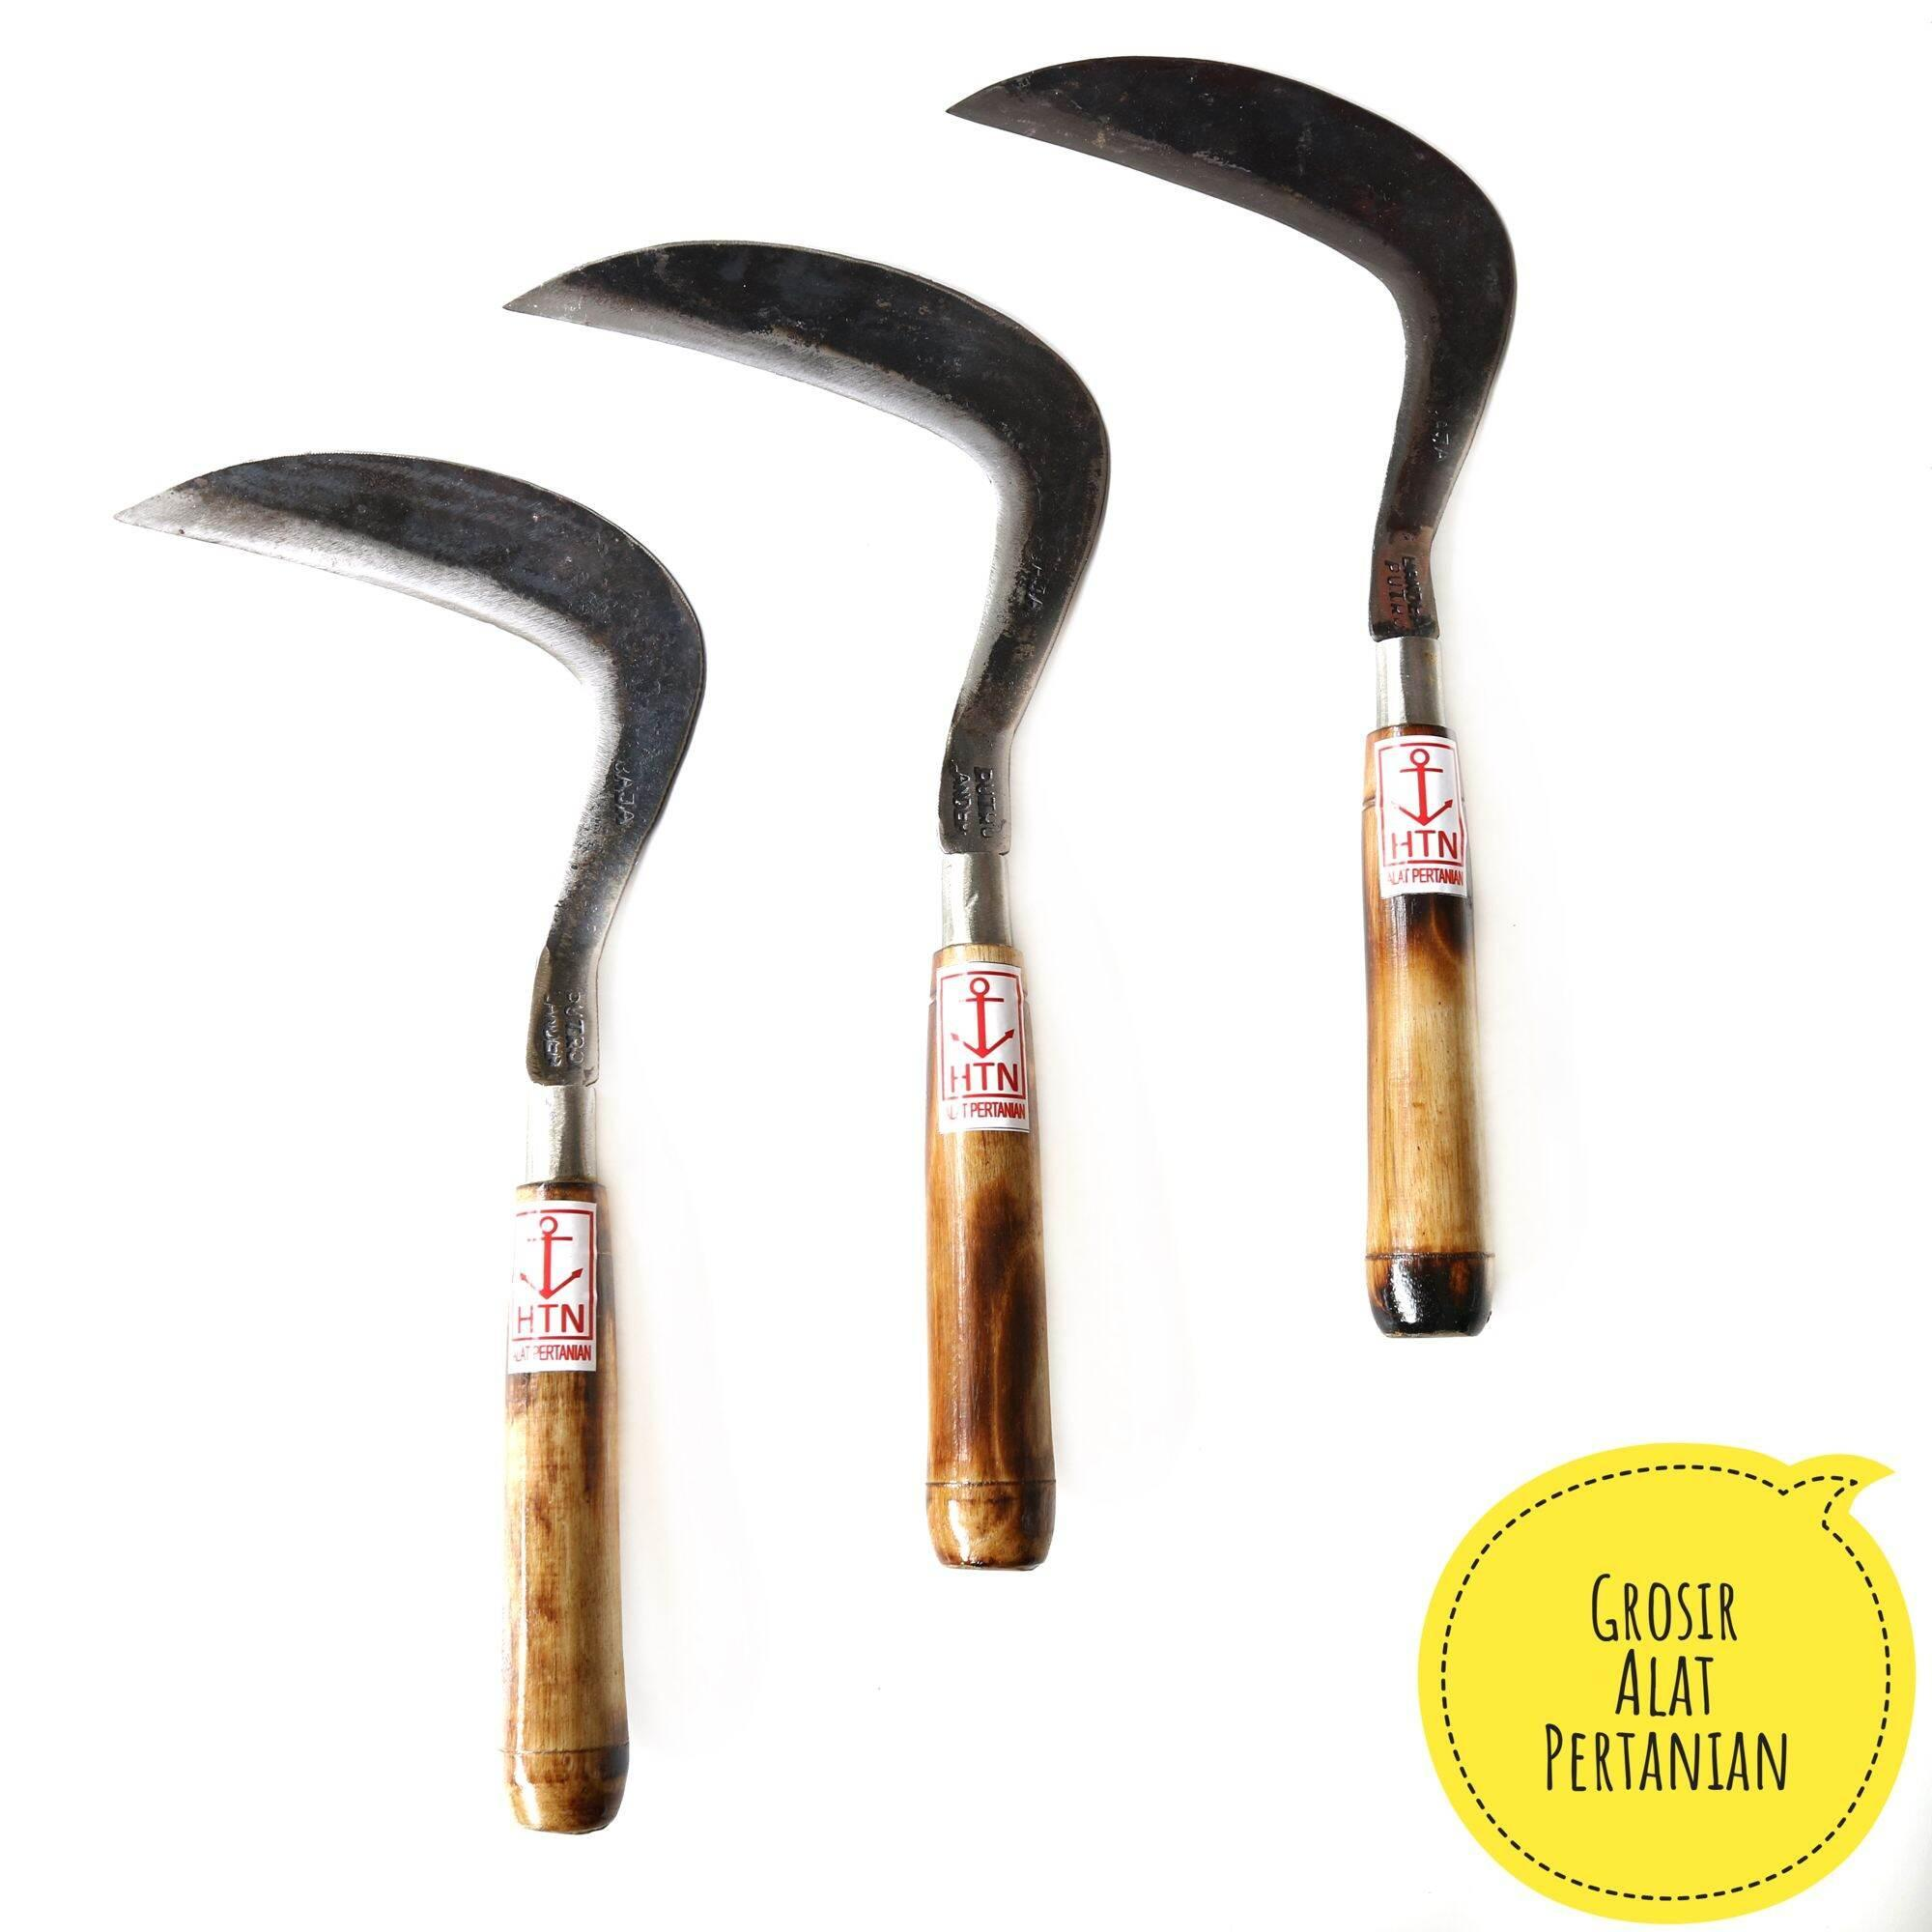foice: (492, 189, 1127, 1582), (145, 418, 741, 1835), (943, 28, 1527, 1378)
